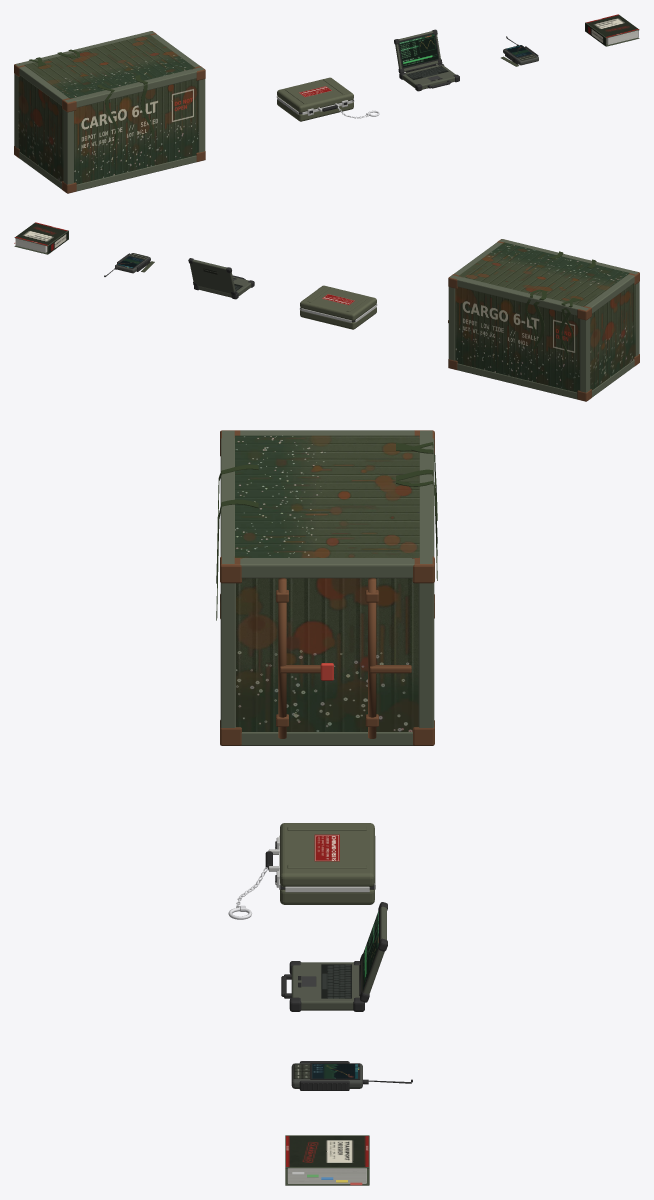
Rendered from items2.glb.
3 renders of one model, top to bottom at view 1: azimuth 30°, elevation 25°; view 2: azimuth 150°, elevation 25°; view 3: azimuth 270°, elevation 25°, orthographic. The views are drawn at different scales.
Visible parts, largest first — view 1: i06_sideA, i06_top, i06_endB, i07_lid, i06_railx-10.73, i08_screen, i06_railx-10.03, i06_post-1-1, i10_cover, i06_raily-10.73, i06_post1-1, i08_base (+8 smaller); view 2: i06_sideB, i06_top, i06_endB, i07_lid, i06_railx10.73, i08_lid, i06_railx10.03, i06_post-11, i10_cover, i06_raily-10.73, i06_post11, i07_bottom (+5 smaller); view 3: i06_endA, i06_top, i07_lid, i06_raily10.73, i10_cover, i06_post11, i06_post1-1, i06_raily10.03, i08_base, i06_railx10.73, i06_railx-10.73, i07_bottom (+5 smaller).
Boxes of the visible parts, <box> form: i06_sideA: <box>74,79,198,184</box>; i06_top: <box>24,34,195,98</box>; i06_endB: <box>18,75,63,182</box>; i07_lid: <box>277,77,353,112</box>; i06_railx-10.73: <box>65,67,203,107</box>; i08_screen: <box>399,34,438,67</box>; i06_railx-10.03: <box>76,155,196,191</box>; i06_post-1-1: <box>63,100,73,184</box>; i10_cover: <box>586,14,638,37</box>; i06_raily-10.73: <box>19,66,68,105</box>; i06_post1-1: <box>198,67,205,152</box>; i08_base: <box>402,64,455,89</box>; i06_sideB: <box>455,287,579,392</box>; i06_top: <box>458,242,629,306</box>; i06_endB: <box>590,283,635,390</box>; i07_lid: <box>300,285,376,320</box>; i06_railx10.73: <box>450,275,588,315</box>; i08_lid: <box>190,259,235,293</box>; i06_railx10.03: <box>457,363,577,399</box>; i06_post-11: <box>580,308,590,392</box>; i10_cover: <box>15,222,67,245</box>; i06_raily-10.73: <box>585,274,634,313</box>; i06_post11: <box>448,275,455,360</box>; i07_bottom: <box>300,307,376,329</box>; i06_endA: <box>236,578,418,731</box>; i06_top: <box>235,435,419,557</box>; i07_lid: <box>280,823,374,887</box>; i06_raily10.73: <box>240,558,414,578</box>; i10_cover: <box>286,1136,368,1166</box>; i06_post11: <box>418,563,434,727</box>; i06_post1-1: <box>220,563,235,727</box>; i06_raily10.03: <box>241,732,413,745</box>; i08_base: <box>291,962,359,1010</box>; i06_railx10.73: <box>419,431,434,563</box>; i06_railx-10.73: <box>220,431,234,563</box>; i07_bottom: <box>280,889,374,904</box>.
Bounding box in the file's own units: 5.17 × 0.774 × 0.839.
35 materials, 12 textured.
